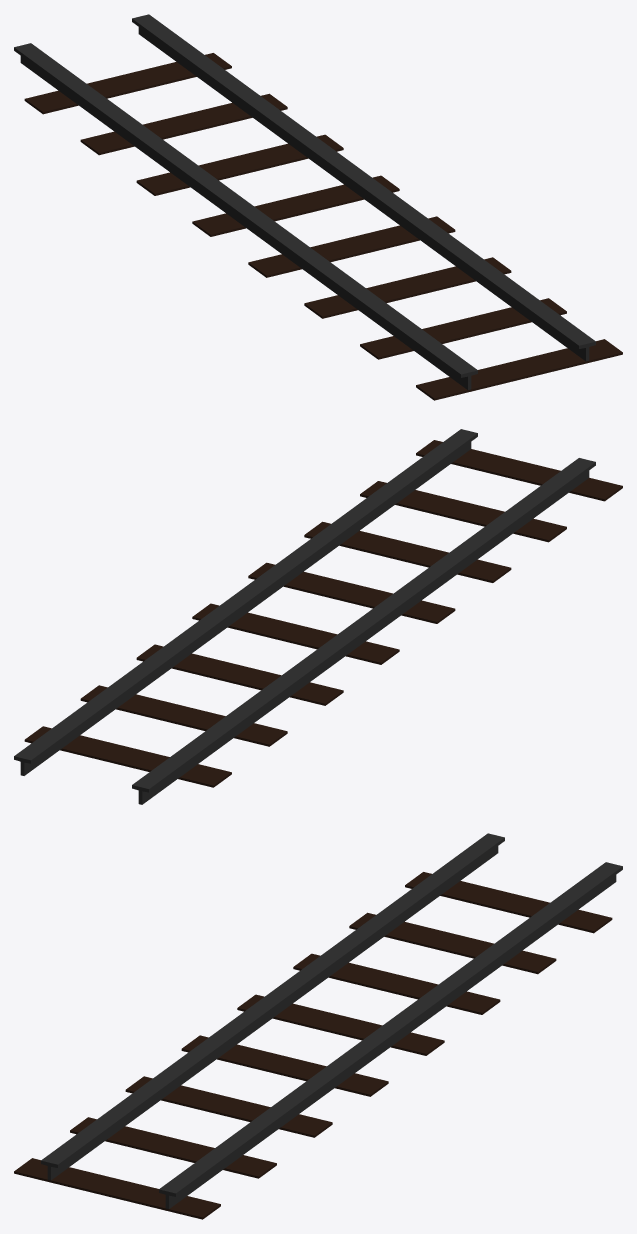
File: railroadStraight.fbx
3 renders of one model, top to bottom at view 1: azimuth 30°, elevation 25°; view 2: azimuth 150°, elevation 25°; view 3: azimuth 330°, elevation 25°, orthographic.
Parts seen in each view (by area): view 1: Cube.007; view 2: Cube.007; view 3: Cube.007.
Boxes of the visible parts, box(x1,y1,x2,y2) form: Cube.007: box(14, 14, 622, 400); Cube.007: box(14, 429, 622, 804); Cube.007: box(14, 833, 622, 1219).
Bounding box in the file's own units: 289 × 28.69 × 1186.
